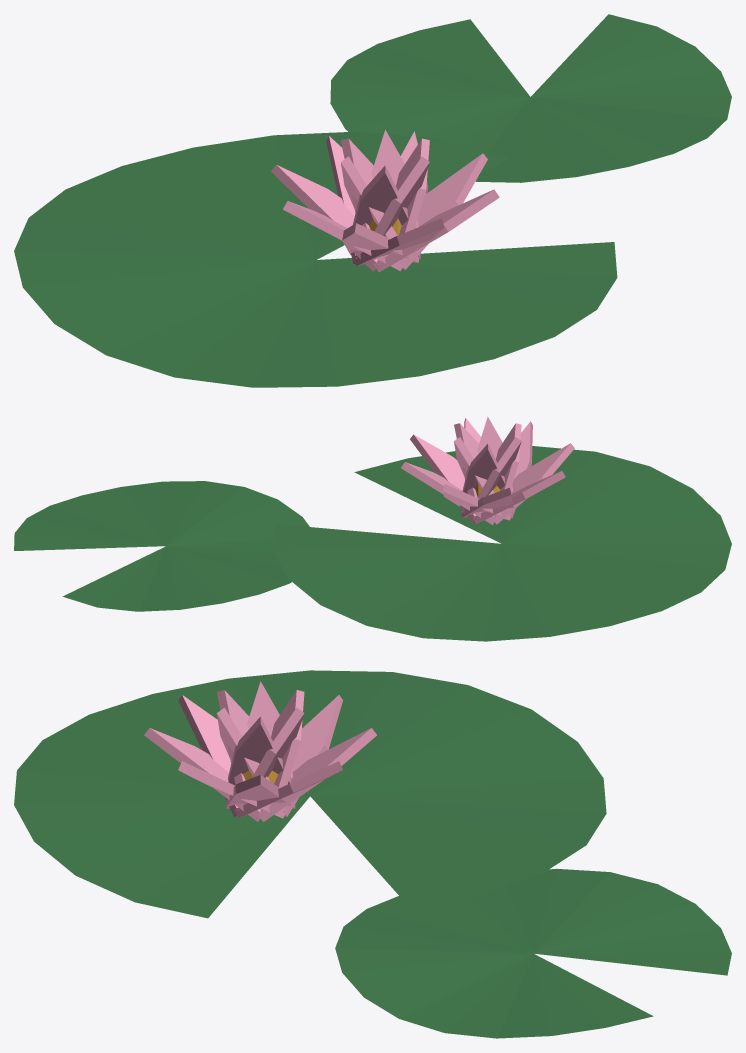
The model's file is teratai.glb.
The picture shows the model from 3 angles, top to bottom: view 1: azimuth 30°, elevation 25°; view 2: azimuth 150°, elevation 25°; view 3: azimuth 270°, elevation 25°; orthographic projection. The views are drawn at different scales.
Visible parts, largest first — view 1: teratai_mesh; view 2: teratai_mesh; view 3: teratai_mesh.
Boxes of the visible parts, box(x1,y1,x2,y2) form: teratai_mesh: box(14, 14, 731, 387); teratai_mesh: box(14, 416, 731, 641); teratai_mesh: box(14, 670, 731, 1038).
Bounding box in the file's own units: 1.75 × 0.2736 × 1.45.
